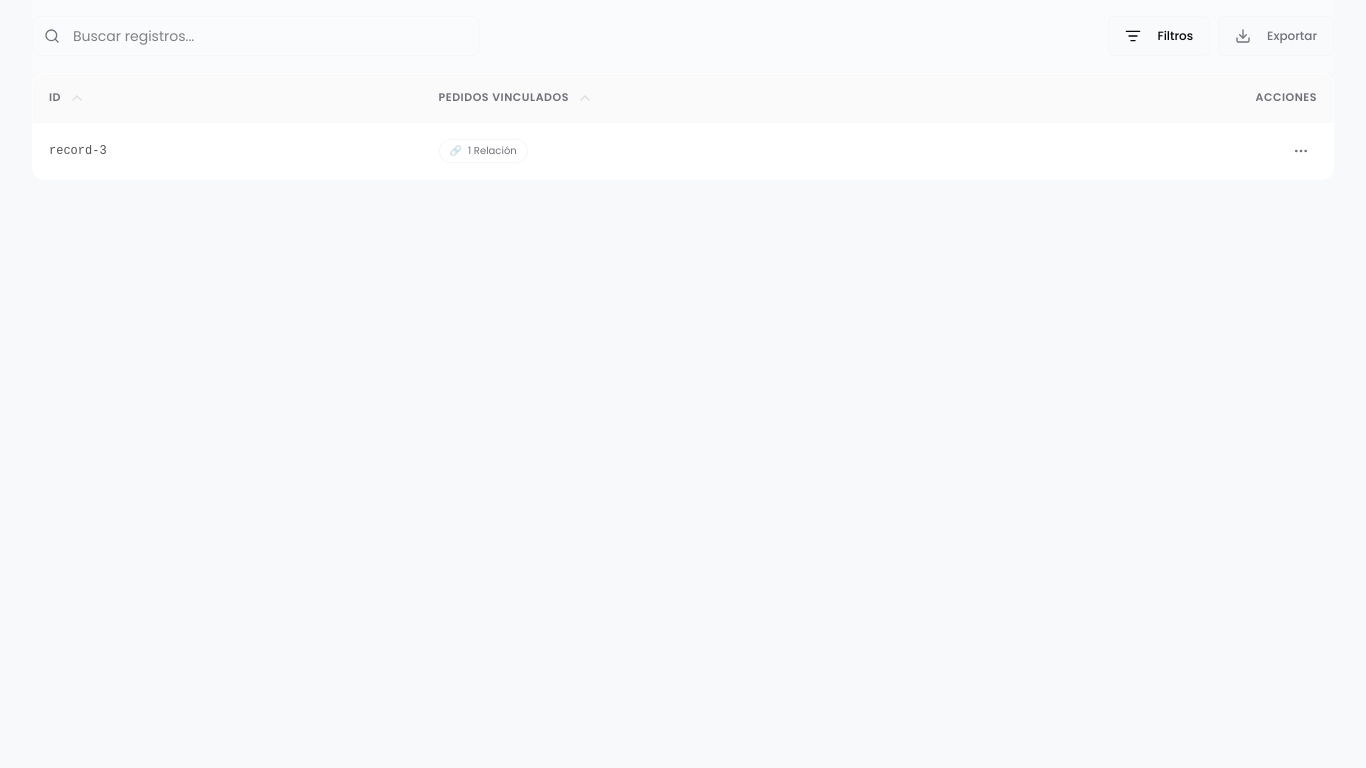
Test: DataGrid › renders reverse lookup values in the grid when they are resolved externally
What coordinates should you click on to do the following:
click the text "🔗 1 Relación"
I would click on:
 (483, 151)
Its box is [438, 139, 528, 163].
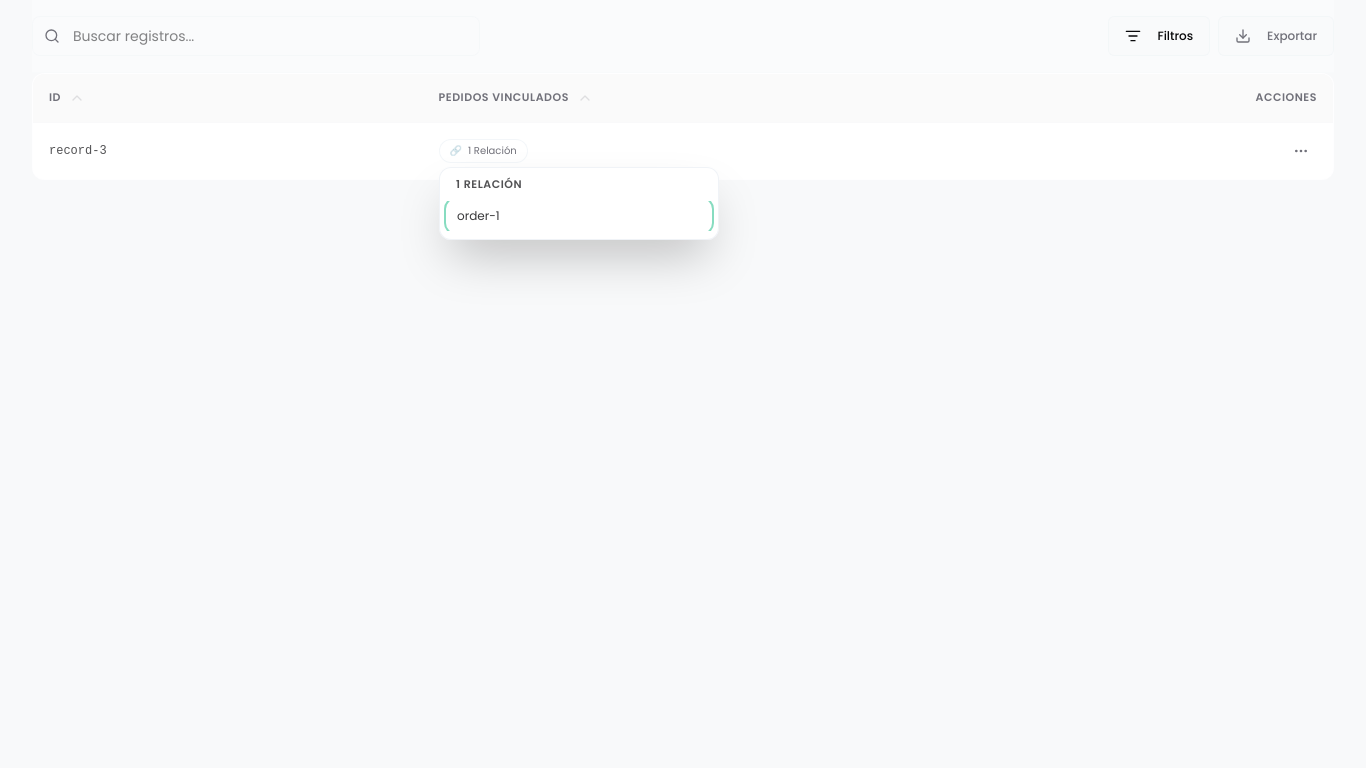
Now the button "order-1" is shown, box [448, 200, 710, 230]
